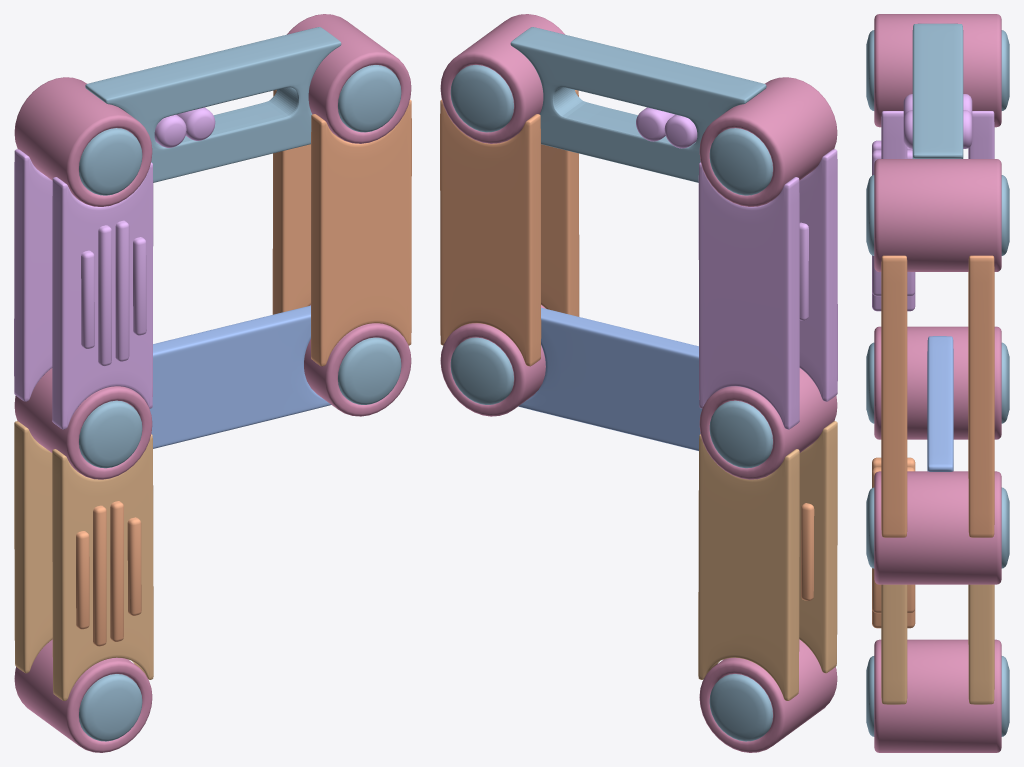
File: Program.glb
3 views of the same model, side by side, from view 1: azimuth 30°, elevation 25°; view 2: azimuth 150°, elevation 25°; view 3: azimuth 270°, elevation 25° (orthographic). The views are drawn at different scales.
Parts seen in each view (by area): view 1: Cube.117; view 2: Cube.117; view 3: Cube.117.
Part boxes in pixels (box(x1,y1,x2,y2)): Cube.117: box(14, 14, 411, 752); Cube.117: box(440, 14, 837, 752); Cube.117: box(866, 14, 1009, 752).
Bounding box in the file's own units: 1.88 × 3.28 × 0.5799.
